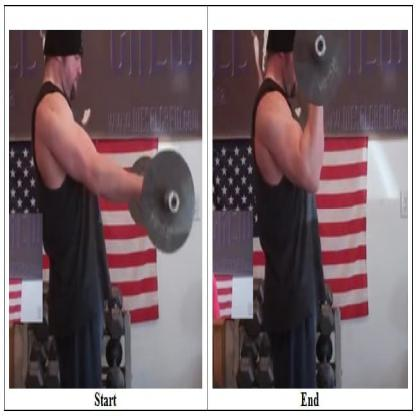Barbell: (137, 140, 196, 257)
